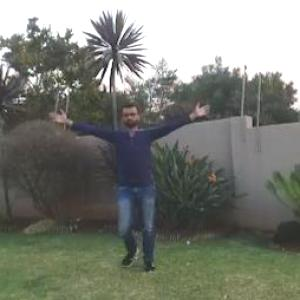takeoff: (59, 93, 206, 265)
